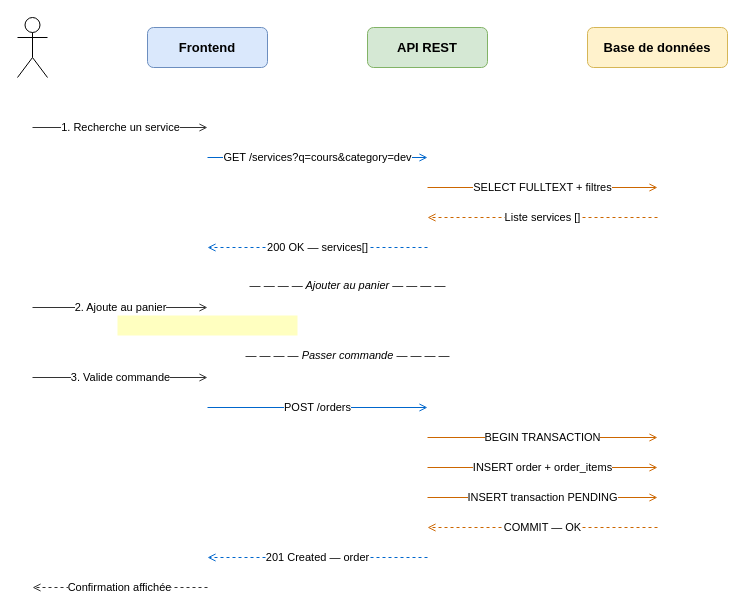
The diagram is 745 pixels wide and 613 high, and some of its shapes have lost their labels. Here are the shapes that lost their labels. From the top down, the centre of each, then its label:
At pixel 32 47: "Actor".
At pixel 207 325: "[State local mis à jour]".
